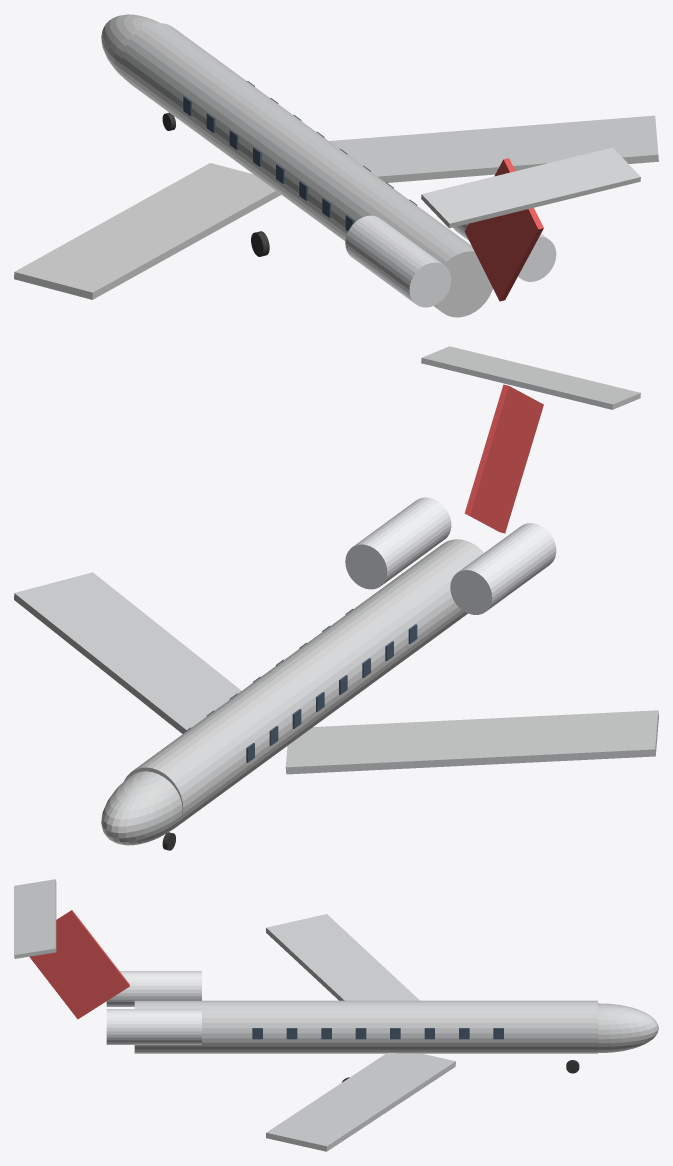
The model's file is cessna_citation_longitude.glb.
The picture shows the model from 3 angles, top to bottom: view 1: azimuth 30°, elevation 25°; view 2: azimuth 150°, elevation 25°; view 3: azimuth 270°, elevation 25°; orthographic projection. The views are drawn at different scales.
Parts seen in each view (by area): view 1: Citation_Fuselage, Cube.019, Cube.018, Cube.017, Cylinder.001, Cube.016, Sphere, Cylinder; view 2: Citation_Fuselage, Cube.019, Cube.018, Cube.016, Cylinder, Cylinder.001, Cube.017, Sphere; view 3: Citation_Fuselage, Cube.018, Cube.019, Cube.016, Cylinder, Cube.017, Cylinder.001, Sphere.
Boxes of the visible parts, <box> form: Citation_Fuselage: <box>121,23,492,317</box>; Cube.019: <box>14,163,280,299</box>; Cube.018: <box>329,115,658,182</box>; Cube.017: <box>421,147,640,228</box>; Cylinder.001: <box>345,215,451,307</box>; Cube.016: <box>464,158,543,301</box>; Sphere: <box>101,14,159,81</box>; Cylinder: <box>453,223,556,281</box>; Citation_Fuselage: <box>124,539,483,830</box>; Cube.019: <box>285,710,658,774</box>; Cube.018: <box>14,572,241,733</box>; Cube.016: <box>464,384,543,533</box>; Cylinder: <box>345,497,451,589</box>; Cylinder.001: <box>450,523,556,614</box>; Cube.017: <box>421,346,640,409</box>; Sphere: <box>101,771,182,845</box>; Citation_Fuselage: <box>134,1000,597,1053</box>; Cube.018: <box>266,1053,455,1151</box>; Cube.019: <box>266,914,419,1000</box>; Cube.016: <box>29,910,129,1019</box>; Cylinder: <box>106,1009,201,1044</box>; Cube.017: <box>14,879,56,958</box>; Cylinder.001: <box>106,971,201,1006</box>; Sphere: <box>598,1003,658,1052</box>.
Size of the model in its own units: 20.79 by 6.79 by 24.36.
